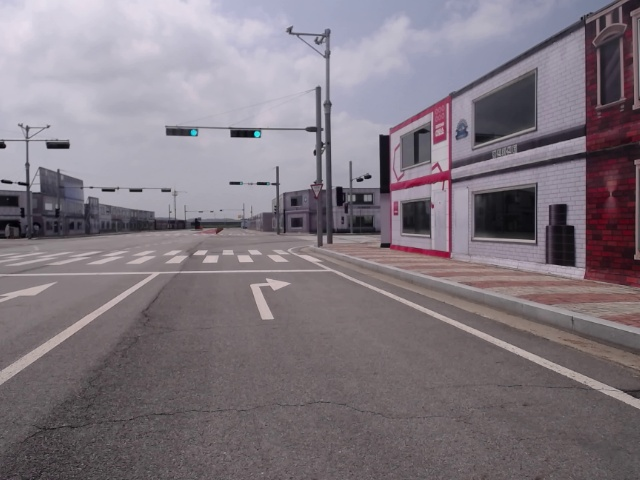straight_green_4: (167, 125, 199, 138), (230, 129, 263, 138), (229, 181, 244, 186), (257, 181, 270, 186)
